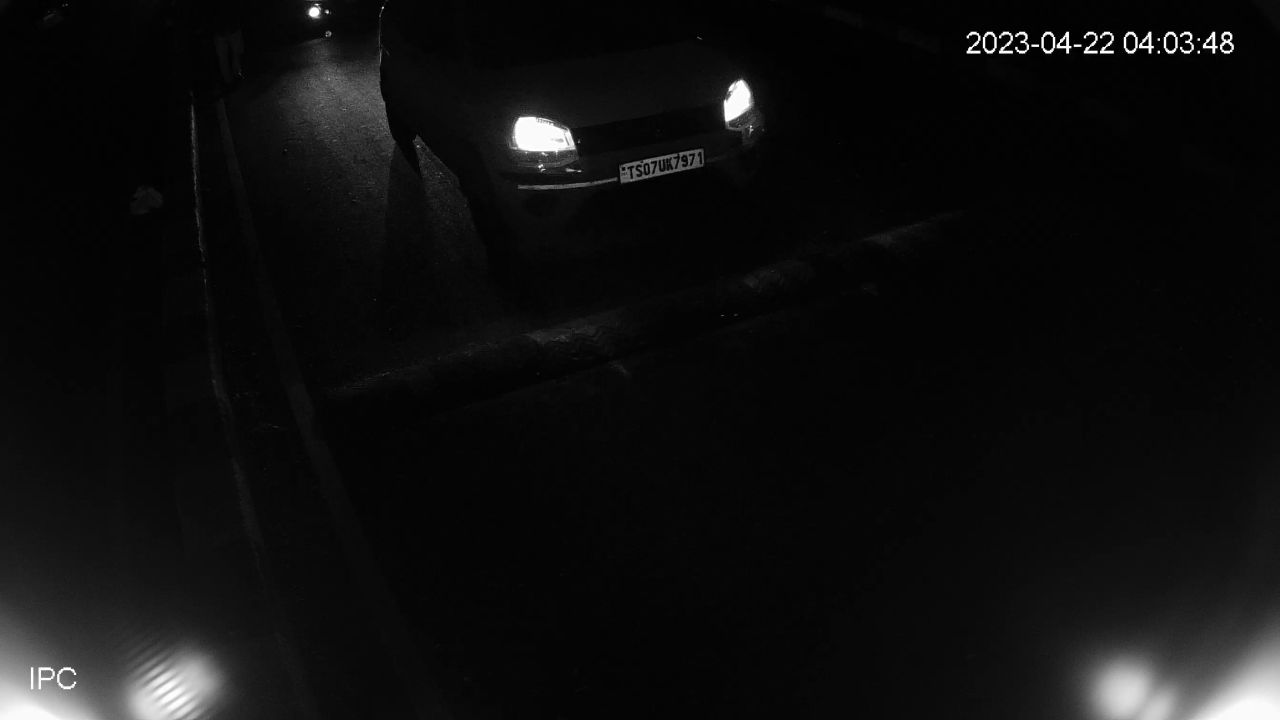license_plate: (614, 143, 709, 187)
